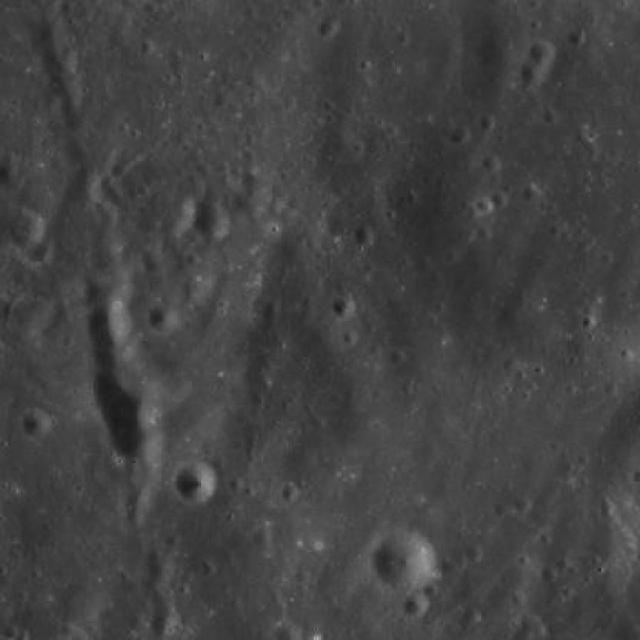crater: (0, 0, 302, 468), (141, 373, 367, 599), (0, 240, 62, 346), (95, 350, 160, 416), (376, 531, 438, 594), (136, 181, 196, 241), (103, 382, 160, 440), (114, 416, 160, 462), (87, 269, 133, 314), (89, 302, 134, 346), (96, 330, 139, 373), (178, 462, 218, 502), (5, 207, 44, 246), (43, 43, 80, 80), (198, 208, 232, 242), (38, 24, 71, 58), (0, 156, 29, 193), (519, 60, 550, 92), (52, 68, 83, 99), (152, 303, 180, 332), (120, 490, 148, 519), (153, 607, 181, 635), (530, 40, 558, 68), (24, 411, 52, 438), (406, 592, 432, 618), (151, 557, 177, 583), (145, 249, 170, 274), (333, 297, 356, 320), (243, 66, 266, 88), (354, 226, 378, 247), (33, 243, 55, 265), (252, 528, 274, 550), (318, 18, 340, 40), (452, 126, 472, 146), (521, 182, 541, 202), (135, 36, 154, 55), (478, 197, 496, 216), (492, 192, 510, 211), (512, 492, 531, 510), (214, 88, 232, 107), (500, 356, 518, 374), (344, 329, 361, 346), (570, 30, 587, 47), (480, 115, 497, 132), (464, 608, 482, 624), (282, 486, 300, 502), (484, 156, 502, 172), (233, 192, 250, 208), (468, 544, 484, 560), (491, 500, 506, 516), (112, 166, 128, 180), (1, 0, 2, 1)
